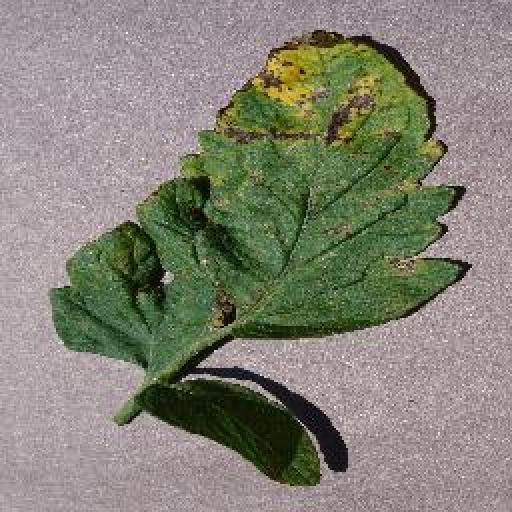Septoria: (46, 30, 465, 362)
